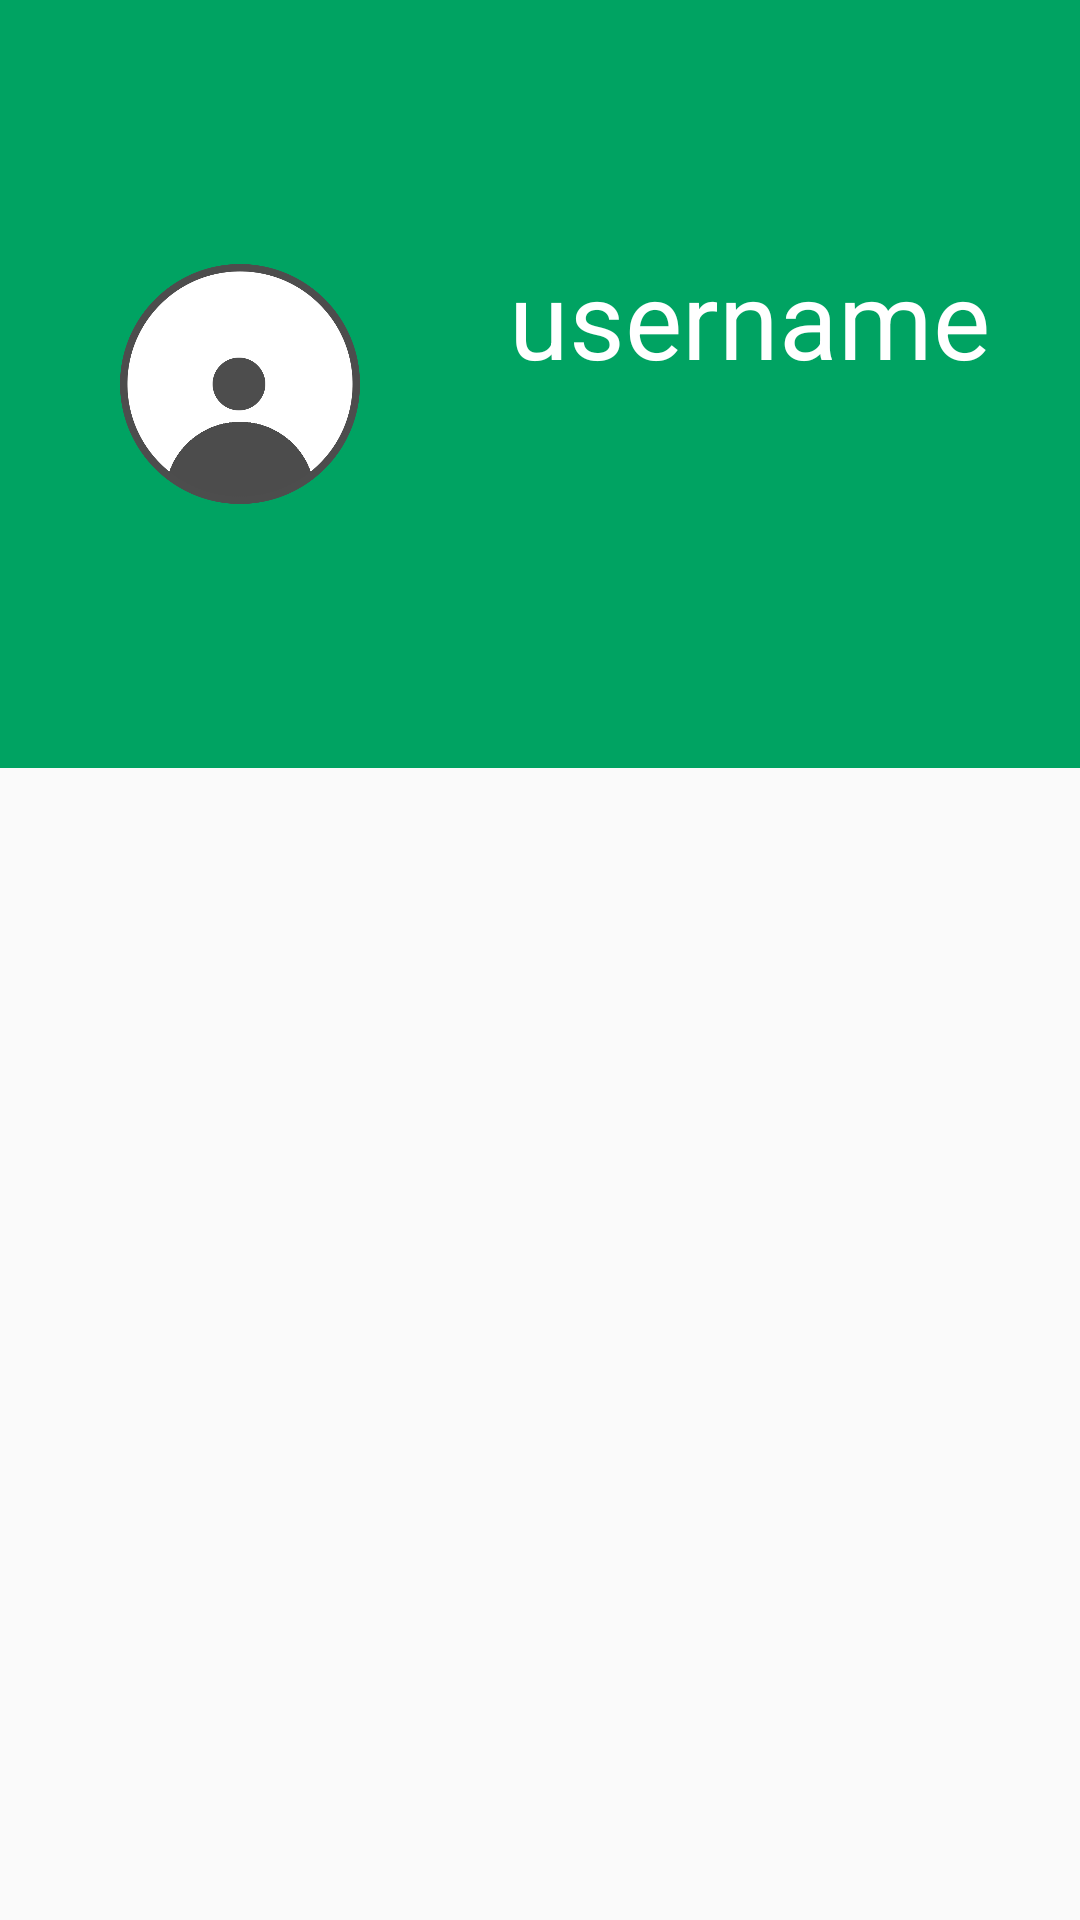

Icon click points for this 1080px×1920px phone screenshot, format (x,y):
person: (240,384)
